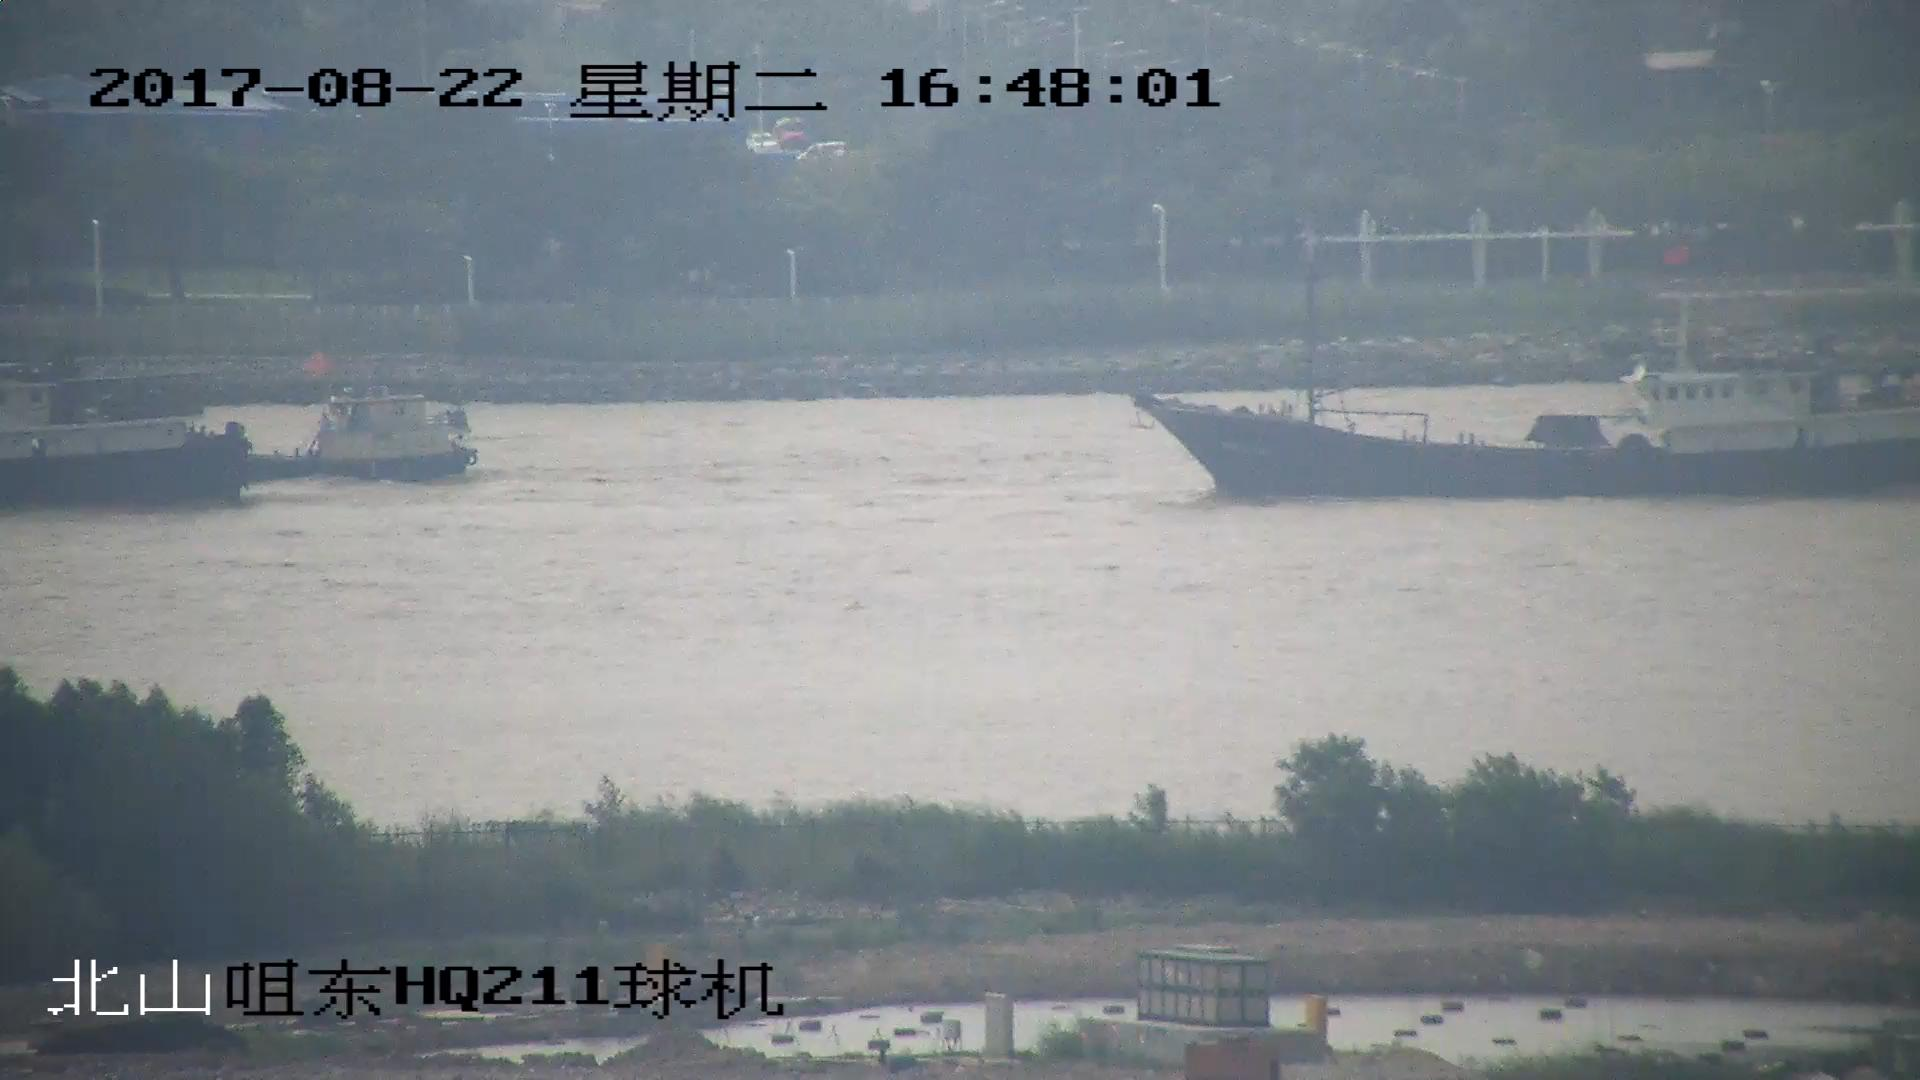fishing boat: (1146, 242, 1920, 499), (180, 361, 491, 482), (1, 373, 265, 499)
